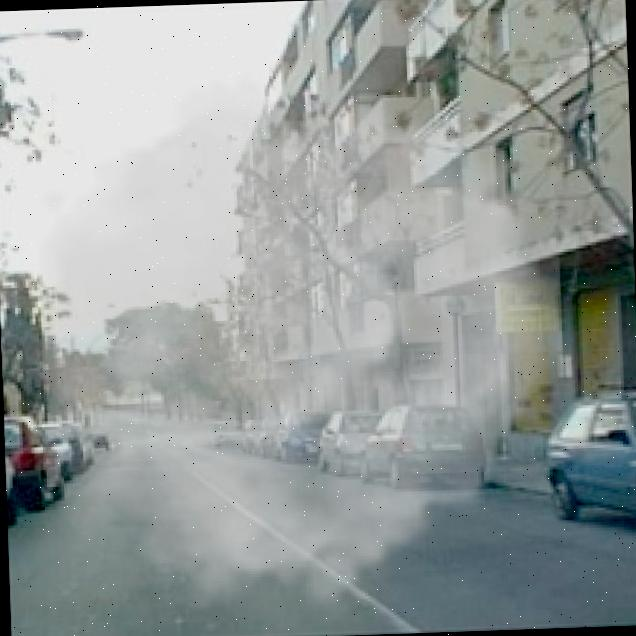smoke: (32, 55, 572, 635)
